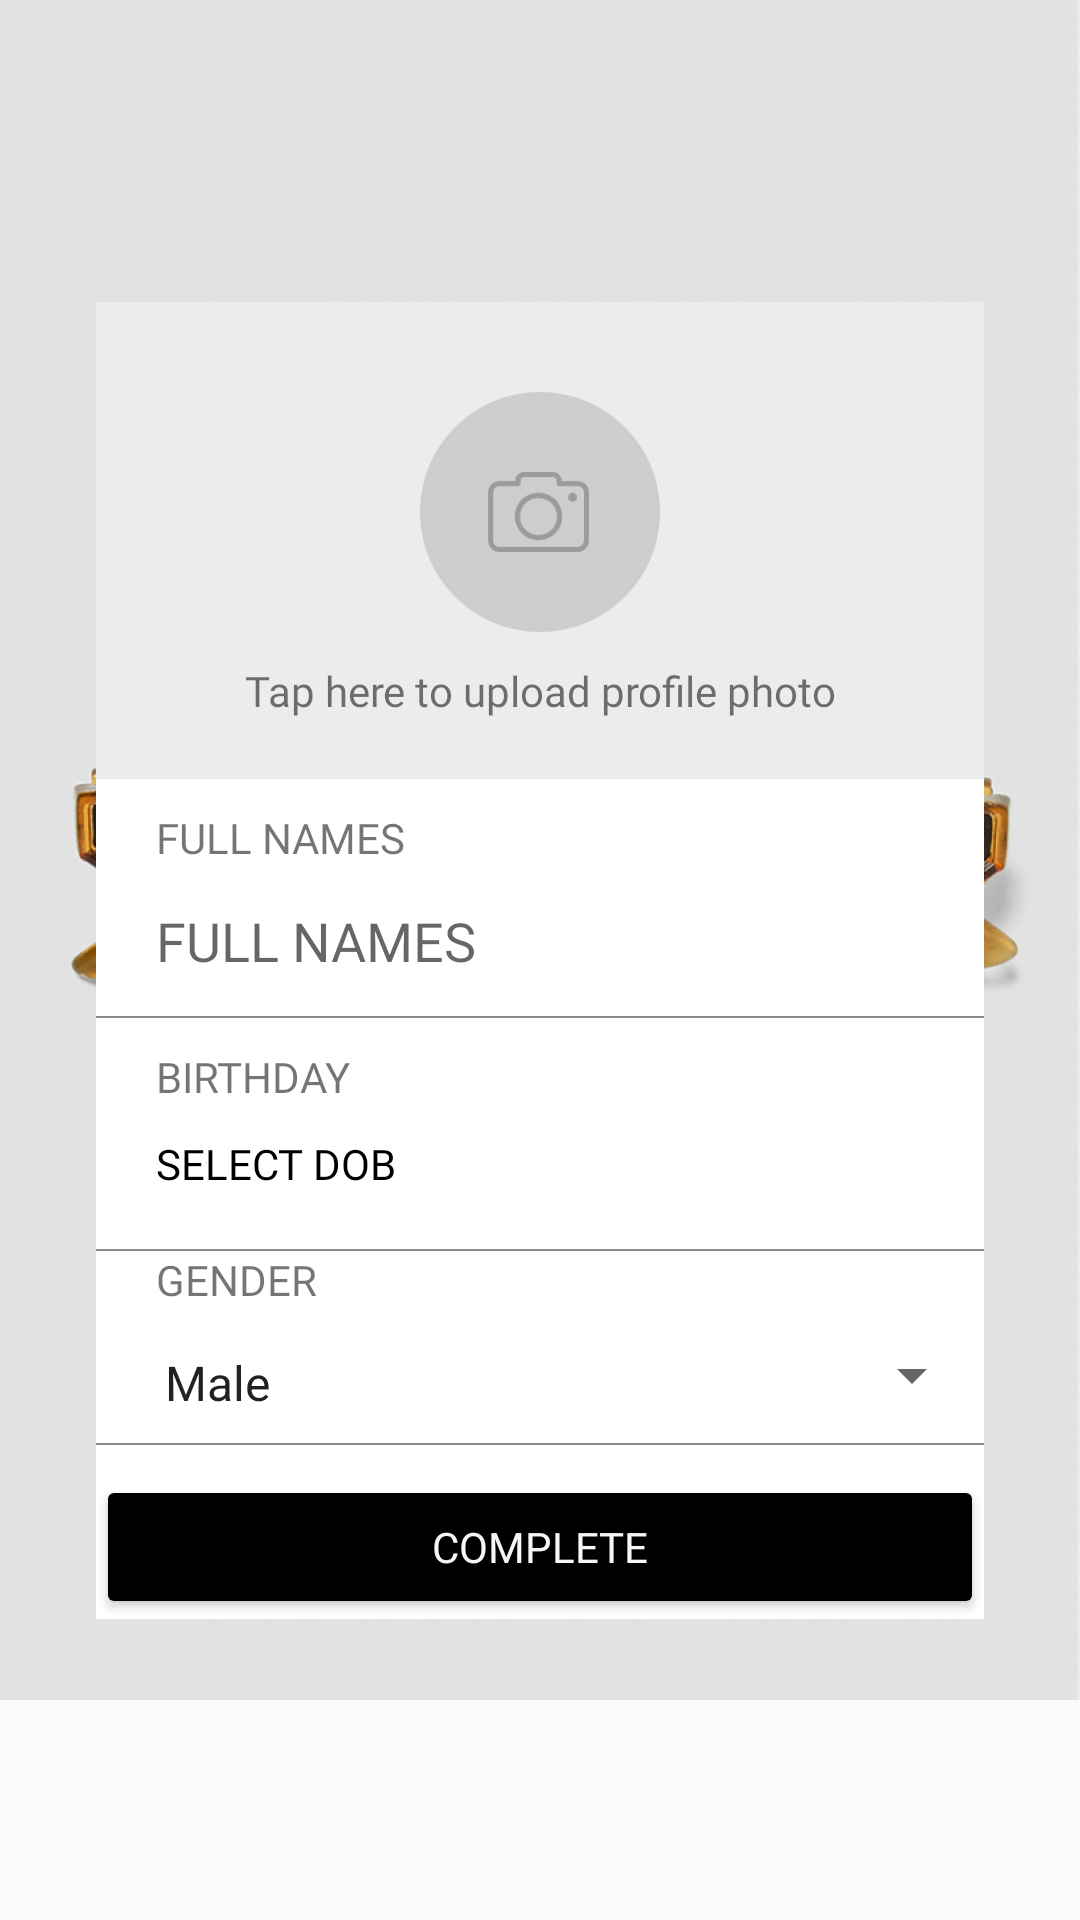

Screen size 1080x1920. Icon name, then its box in pixels as (left=x1, top=y1, right=x2, bottom=y2):
camera: (left=420, top=392, right=660, bottom=632)
